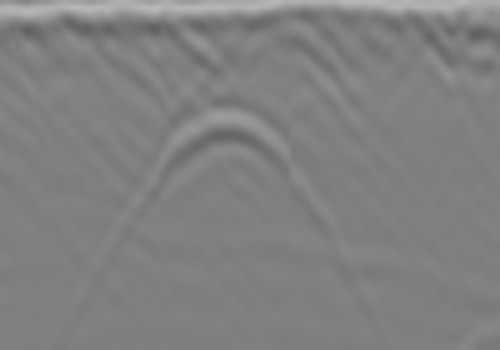hyperbola: (77, 103, 378, 326)
